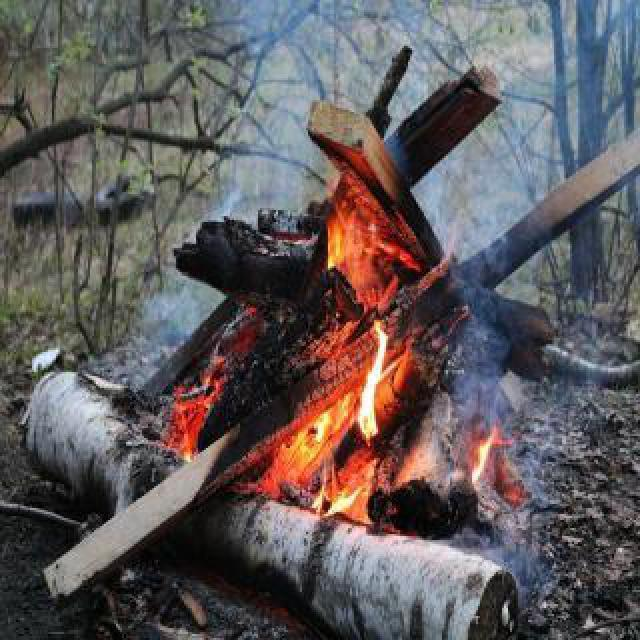Fire: (352, 324, 406, 466), (292, 442, 358, 544), (298, 186, 362, 286), (466, 420, 506, 504)
Smoke: (438, 230, 636, 620), (110, 160, 242, 394)
